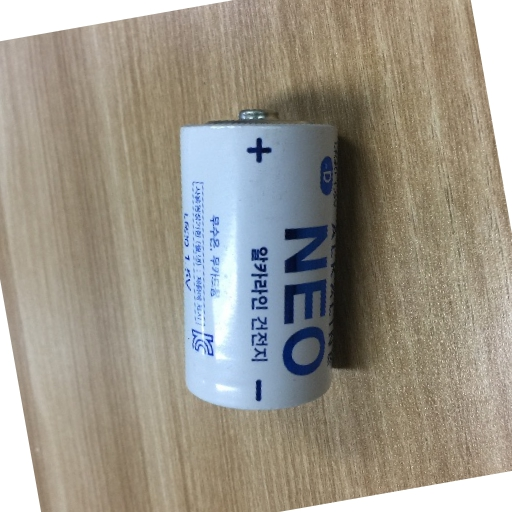Battery_0: (167, 95, 358, 422)
